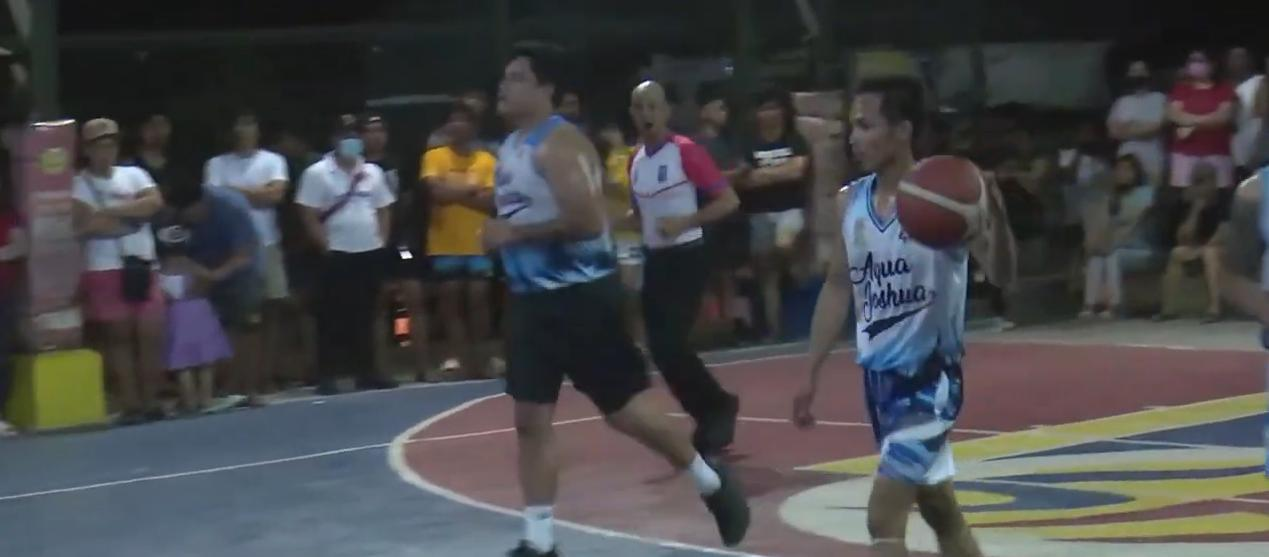ball: (892, 148, 990, 255)
human: (426, 38, 756, 557), (770, 72, 1030, 557), (593, 78, 751, 478)
